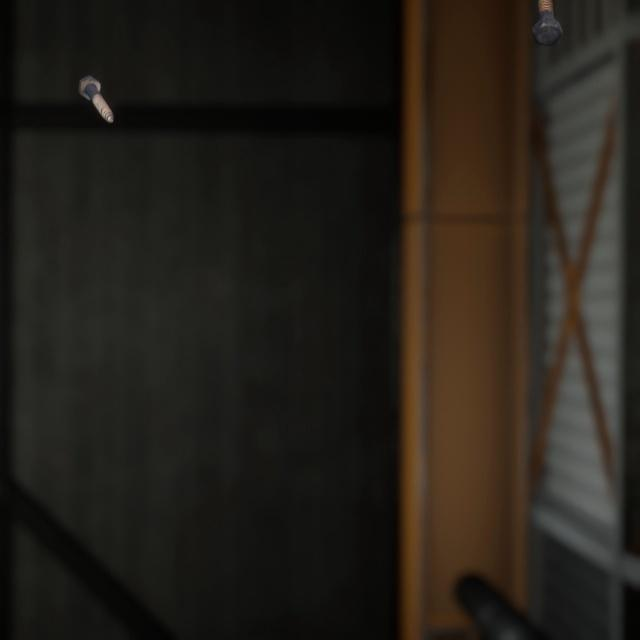bolt: (74, 60, 118, 115), (527, 0, 567, 42)
